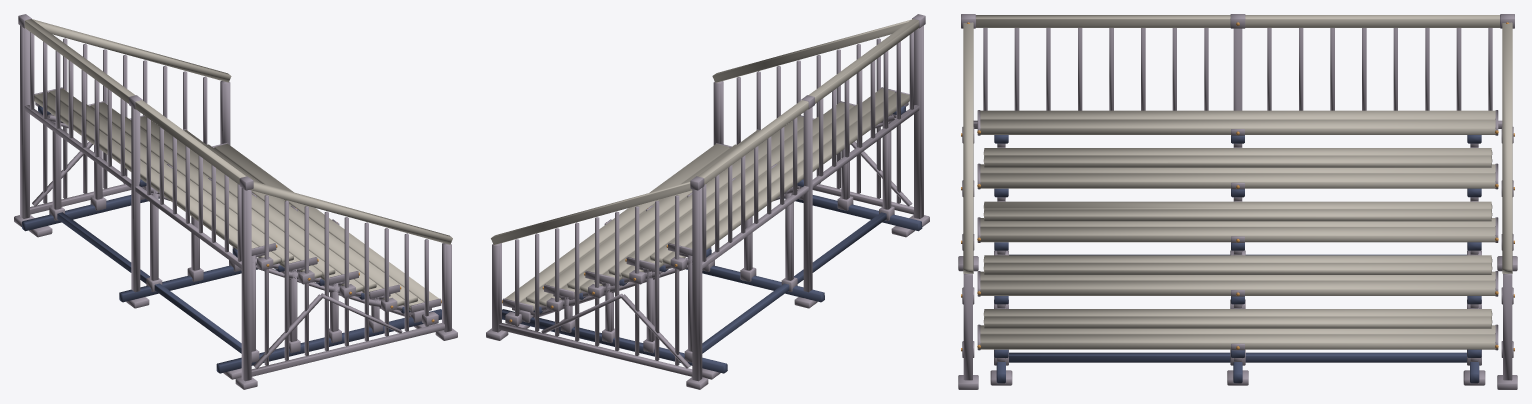
3 views of the same model, side by side, from view 1: azimuth 30°, elevation 25°; view 2: azimuth 150°, elevation 25°; view 3: azimuth 270°, elevation 25° (orthographic). The views are drawn at different scales.
Size of the model in its own units: 3.55 by 3.11 by 6.27.
